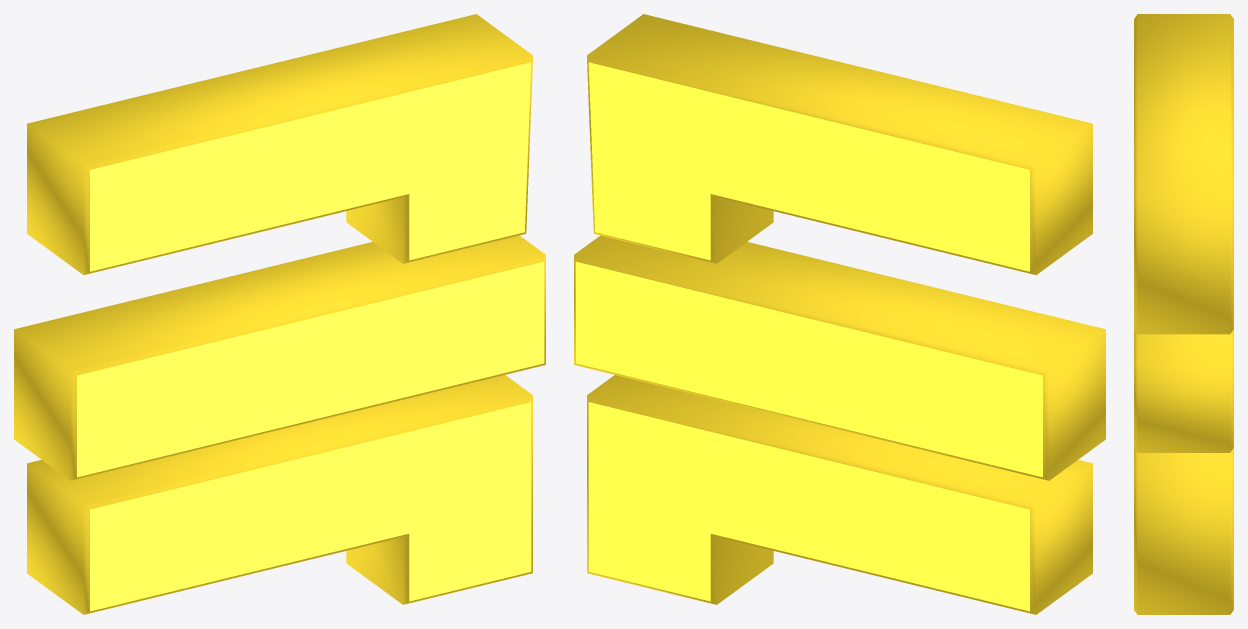
Rendered from u_adf9_y.glb.
3 renders of one model, left to right at view 1: azimuth 30°, elevation 25°; view 2: azimuth 150°, elevation 25°; view 3: azimuth 270°, elevation 25°, orthographic. The views are drawn at different scales.
Parts seen in each view (by area): view 1: glyph; view 2: glyph; view 3: glyph.
Part boxes in pixels (left/top/right/bottom): glyph: left=14, top=14, right=545, bottom=614; glyph: left=574, top=14, right=1105, bottom=614; glyph: left=1134, top=14, right=1233, bottom=614.
Bounding box in the file's own units: 0.0726 × 0.0756 × 0.0162.
